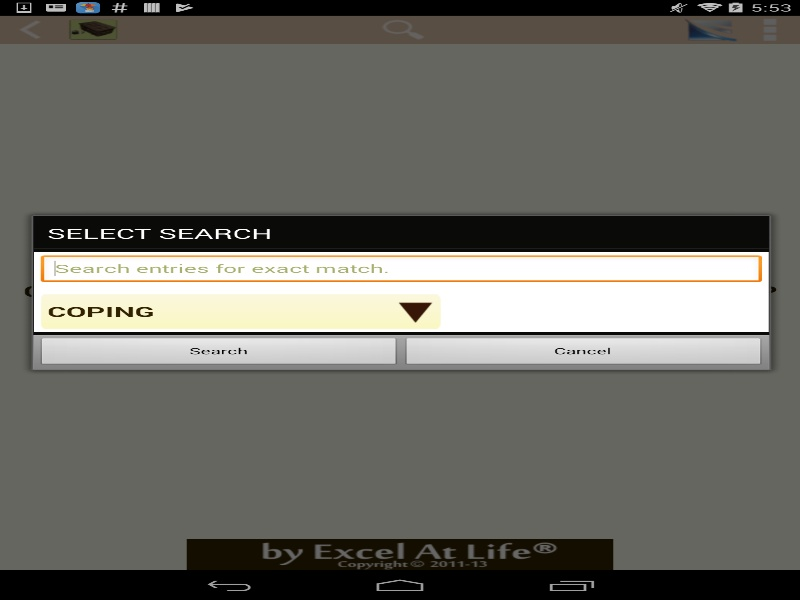Button: (36, 337, 401, 367), (401, 337, 766, 367)
Input: (40, 255, 762, 285)
